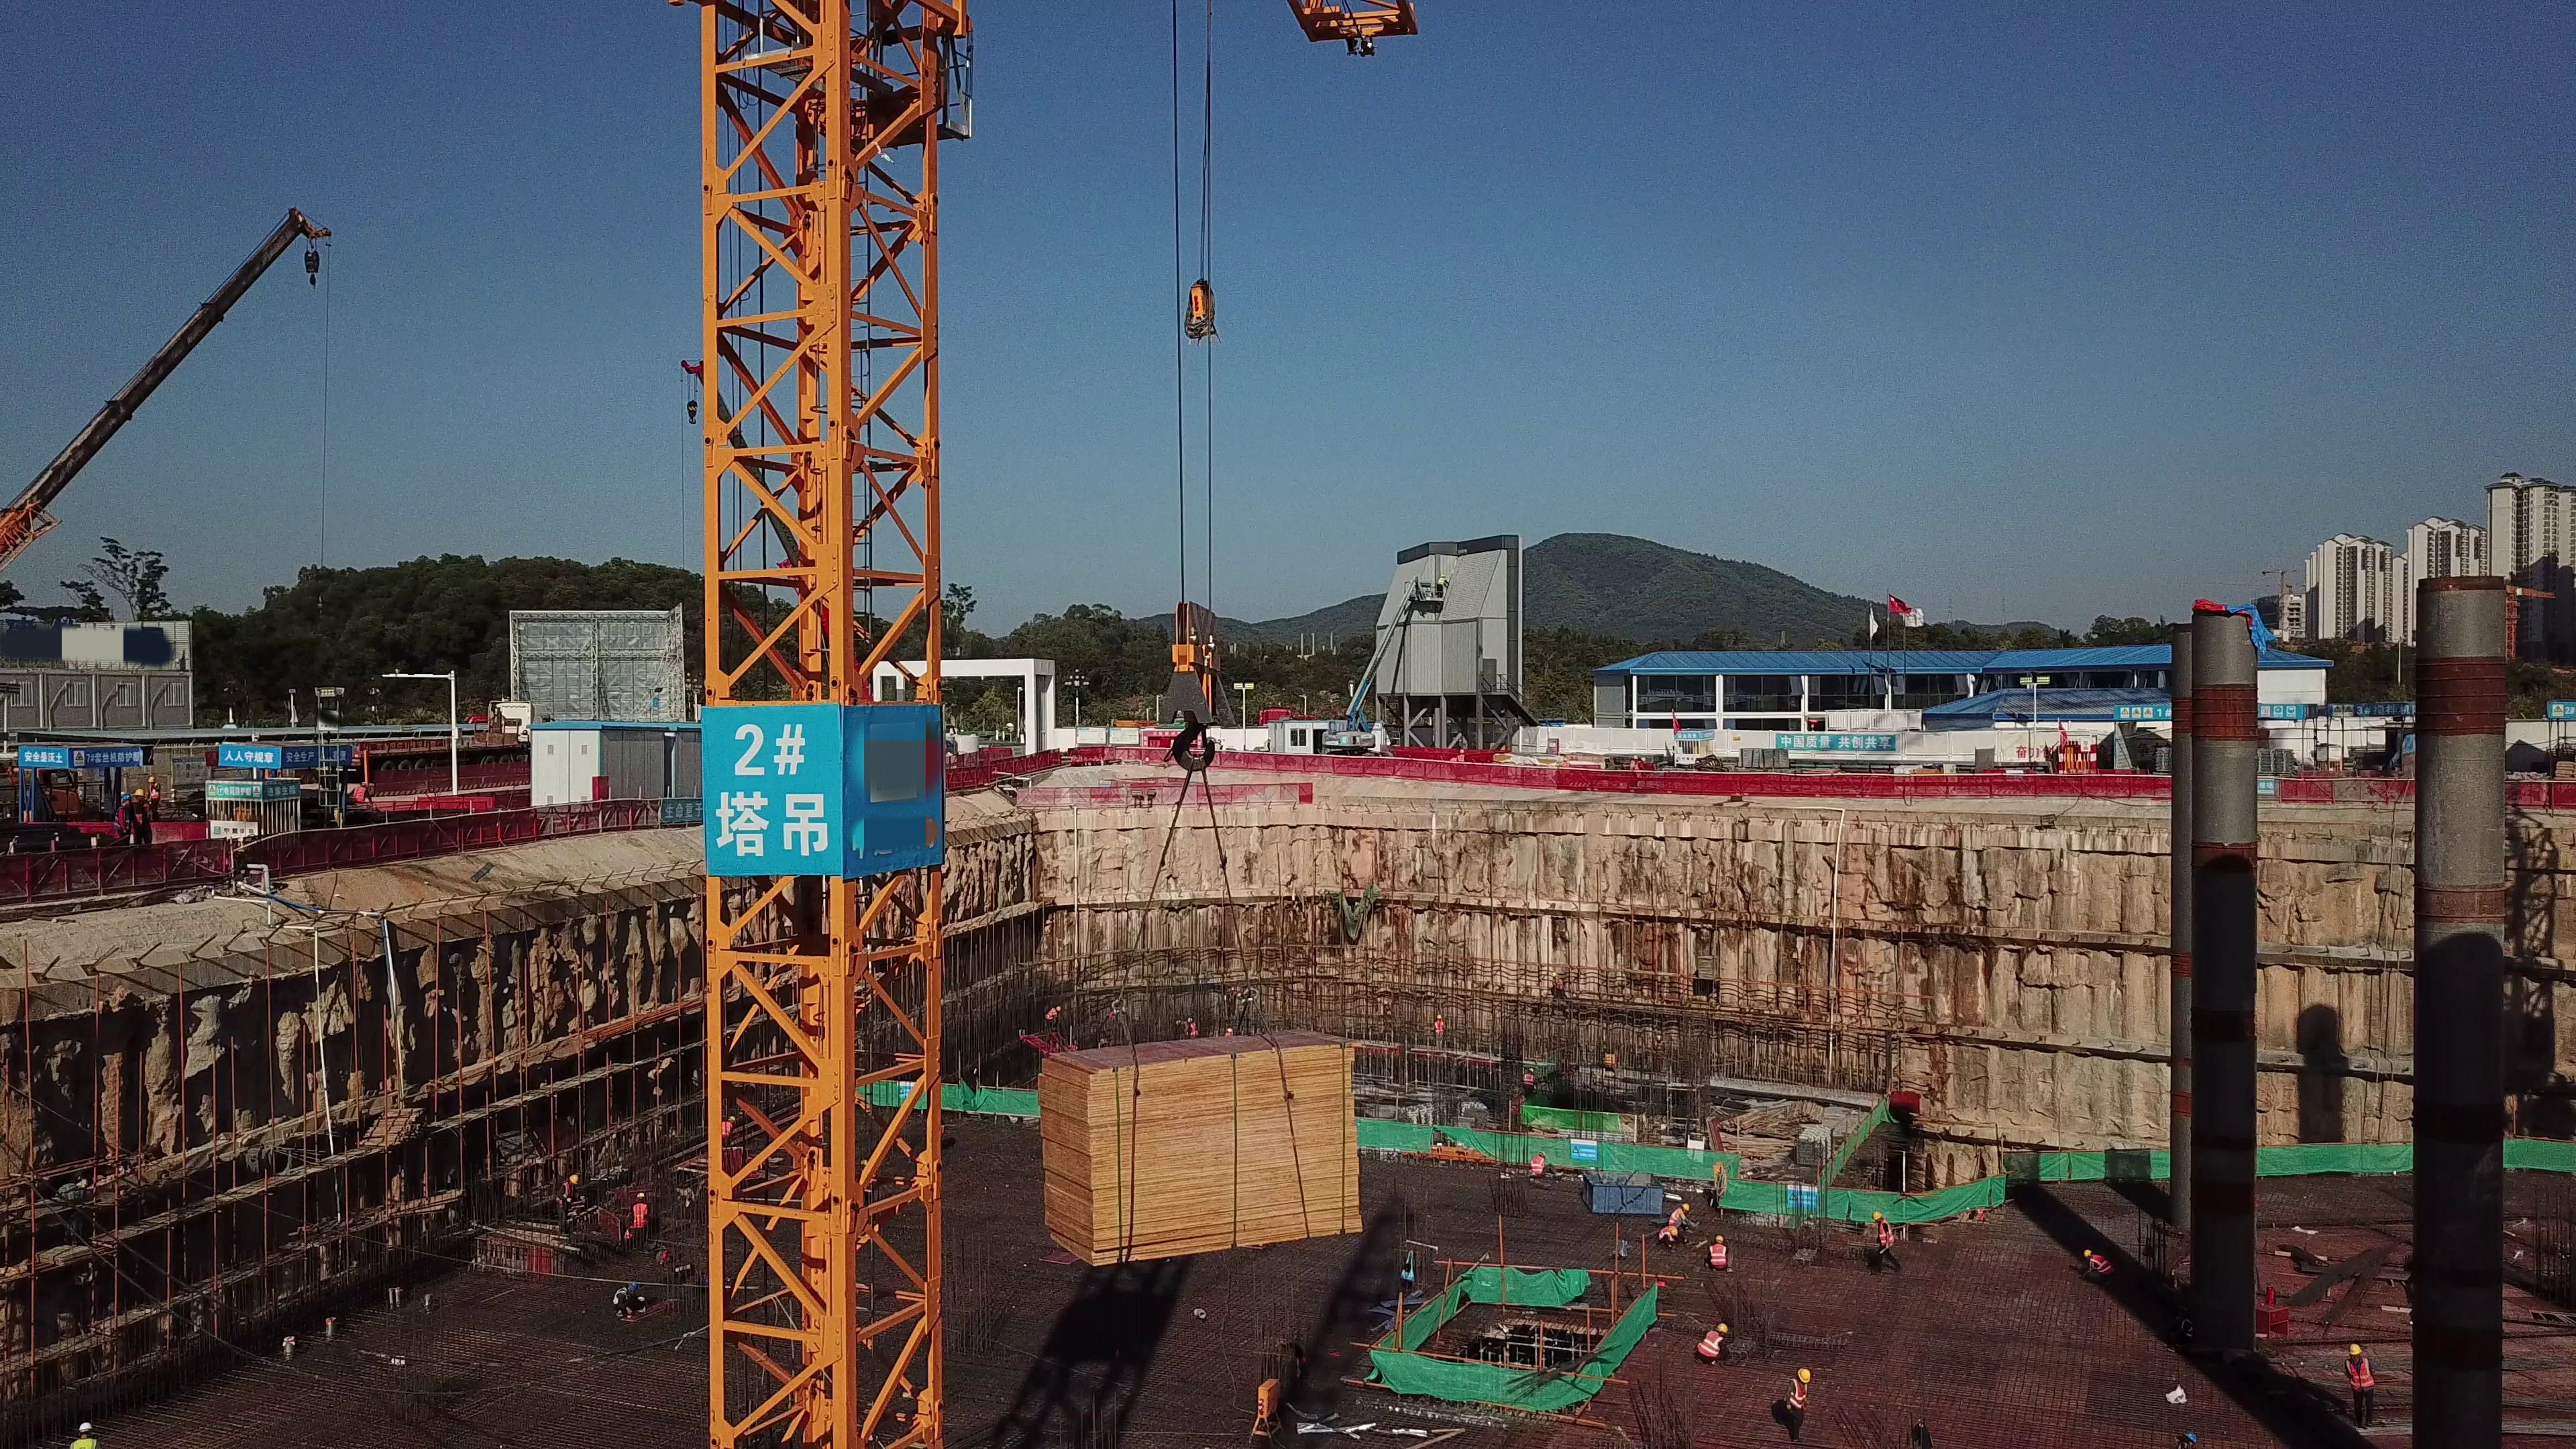board: (1040, 1023, 1366, 1255)
brick: (1737, 740, 1788, 770)
ebox: (1248, 1377, 1285, 1440)
fence: (1825, 776, 2140, 811), (262, 822, 592, 851)
helmet: (1796, 1366, 1813, 1383), (2349, 1343, 2365, 1357), (566, 1173, 582, 1186), (1717, 1320, 1731, 1336), (74, 1421, 93, 1431), (627, 1279, 641, 1293), (1870, 1211, 1885, 1222), (1539, 1148, 1550, 1161), (134, 789, 146, 800), (1714, 1233, 1725, 1244), (148, 775, 157, 784), (120, 793, 131, 801), (635, 1191, 647, 1198), (1670, 1227, 1678, 1238), (2083, 1249, 2092, 1258), (1682, 1203, 1689, 1213), (729, 1115, 736, 1121), (1437, 1014, 1443, 1019), (1529, 1067, 1535, 1073)
hook: (1156, 600, 1239, 778), (301, 247, 321, 292), (685, 398, 702, 426)
hopper: (1578, 1169, 1665, 1221)
person: (2339, 1340, 2380, 1431), (1780, 1360, 1815, 1441), (1867, 1209, 1904, 1278), (626, 1189, 657, 1259), (552, 1169, 580, 1238), (610, 1276, 653, 1322), (1703, 1228, 1733, 1279), (1693, 1318, 1727, 1366), (70, 1415, 101, 1449), (133, 784, 149, 849), (113, 792, 133, 844), (2081, 1248, 2113, 1281), (1525, 1144, 1551, 1182), (1651, 1225, 1680, 1256), (1666, 1199, 1703, 1226), (147, 769, 160, 824), (720, 1107, 737, 1149), (1039, 1002, 1067, 1024), (1434, 1008, 1447, 1055), (1521, 1065, 1544, 1091), (350, 778, 372, 804), (1181, 1014, 1199, 1042), (1455, 747, 1469, 763), (1626, 752, 1639, 770), (1221, 1027, 1237, 1037), (1639, 754, 1646, 773), (1560, 756, 1571, 767)
scaffold: (1407, 1096, 1489, 1130), (1797, 1127, 1834, 1169)
slogan: (718, 698, 860, 869), (1785, 731, 1898, 751), (78, 751, 151, 769), (289, 747, 352, 767), (213, 780, 258, 803), (222, 751, 280, 766), (2123, 707, 2176, 722), (27, 750, 63, 767), (268, 785, 297, 801)
vest: (2347, 1362, 2375, 1392), (1698, 1330, 1719, 1358), (631, 1205, 651, 1230), (1790, 1384, 1807, 1413), (2093, 1253, 2112, 1275), (1878, 1222, 1894, 1246), (135, 802, 147, 827), (72, 1437, 99, 1448), (116, 807, 130, 830), (1529, 1157, 1544, 1177), (1709, 1246, 1725, 1266), (719, 1120, 733, 1140), (1668, 1207, 1682, 1224), (560, 1183, 572, 1207), (353, 786, 366, 801), (612, 1288, 627, 1305), (149, 783, 160, 802), (1524, 1075, 1536, 1089), (1659, 1226, 1670, 1238), (1436, 1021, 1444, 1039)
wood: (1723, 1105, 1792, 1165)
